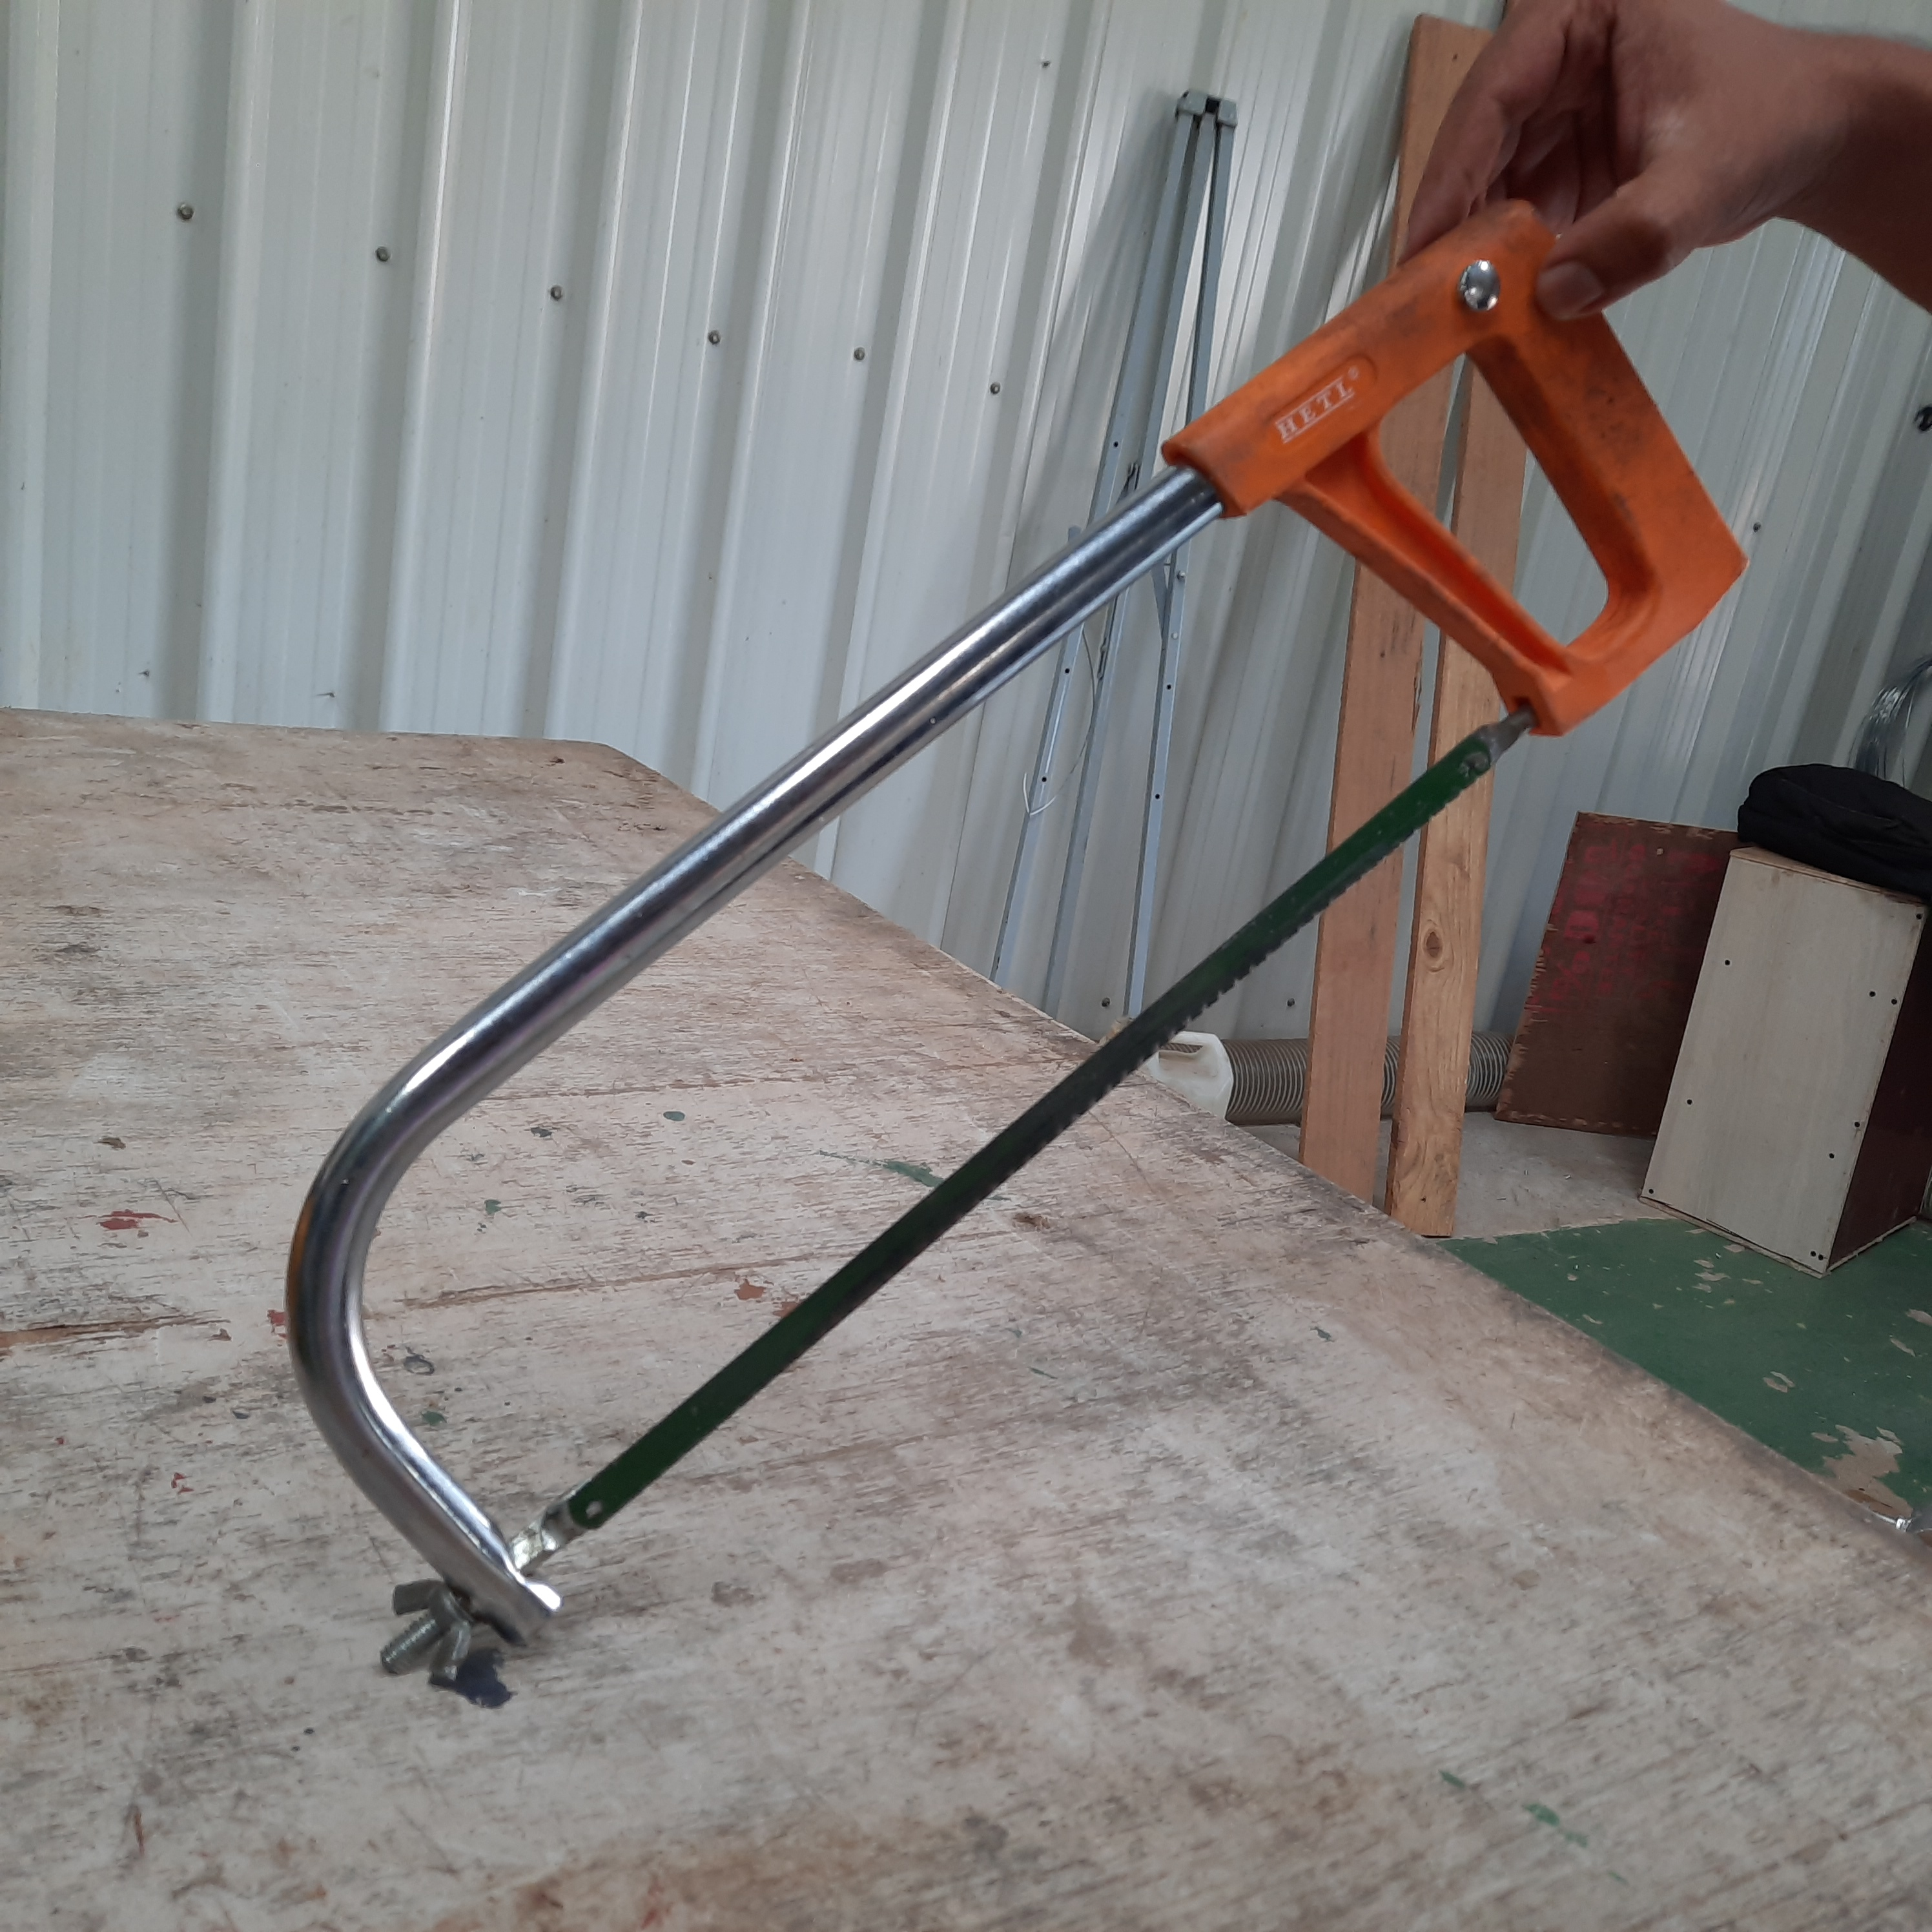Hexaframe: (272, 184, 1760, 1776)
